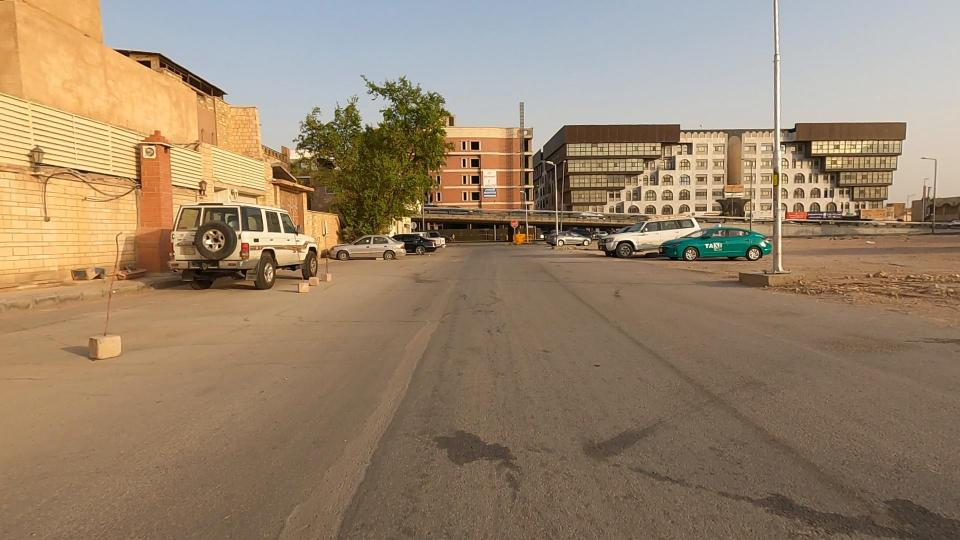GARBAGE: (778, 230, 960, 333), (78, 236, 185, 310), (20, 238, 140, 303)
